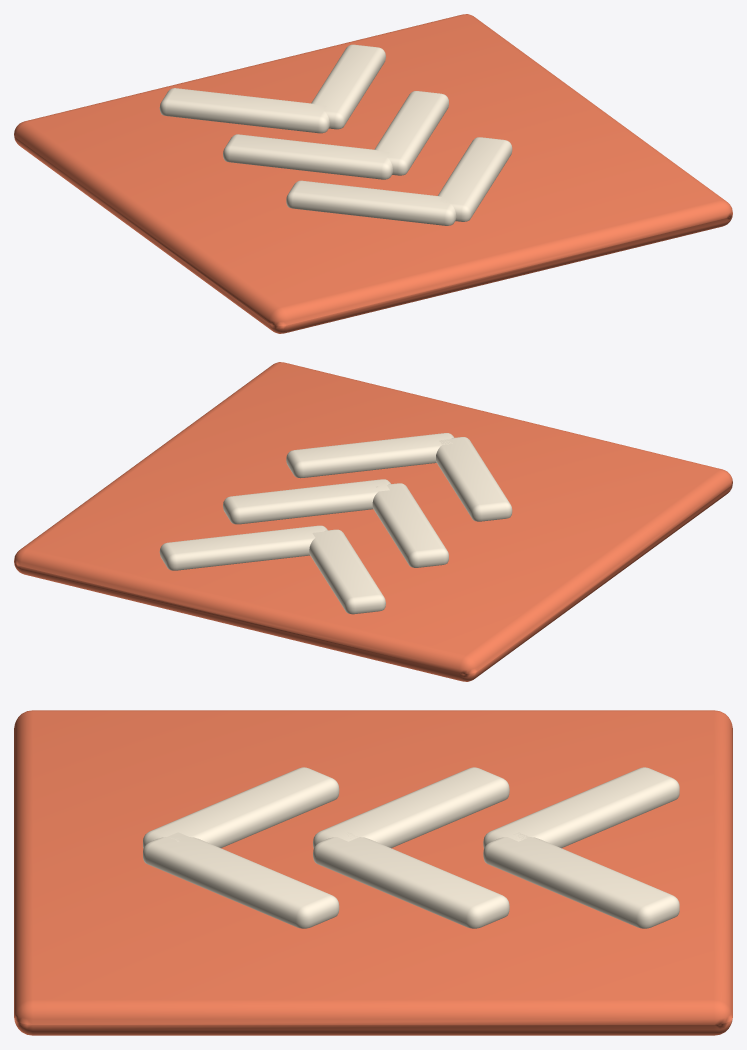
The model's file is booster.glb.
3 renders of one model, top to bottom at view 1: azimuth 30°, elevation 25°; view 2: azimuth 150°, elevation 25°; view 3: azimuth 270°, elevation 25°, orthographic. The views are drawn at different scales.
Parts seen in each view (by area): view 1: booster; view 2: booster; view 3: booster.
Part boxes in pixels (left/top/right/bottom): booster: left=14, top=14, right=732, bottom=333; booster: left=14, top=362, right=732, bottom=681; booster: left=14, top=710, right=732, bottom=1035.
Bounding box in the file's own units: 1.9 × 0.155 × 1.9.
